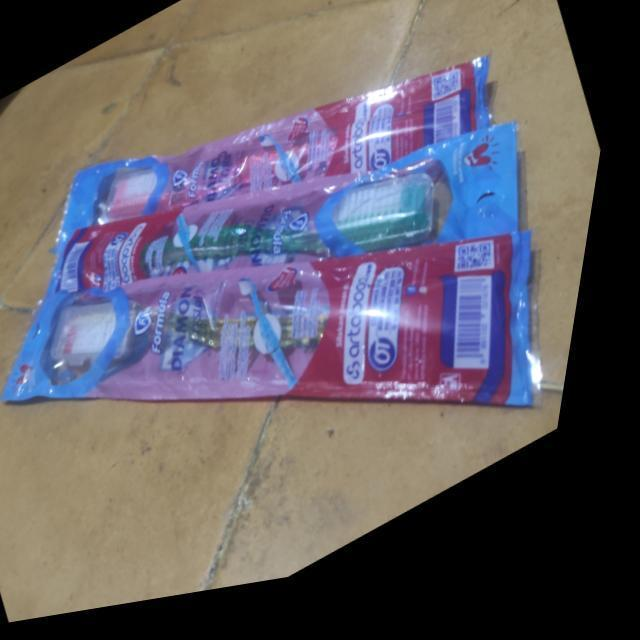toothbrush: (114, 104, 446, 229), (97, 175, 463, 286), (58, 291, 458, 373)
